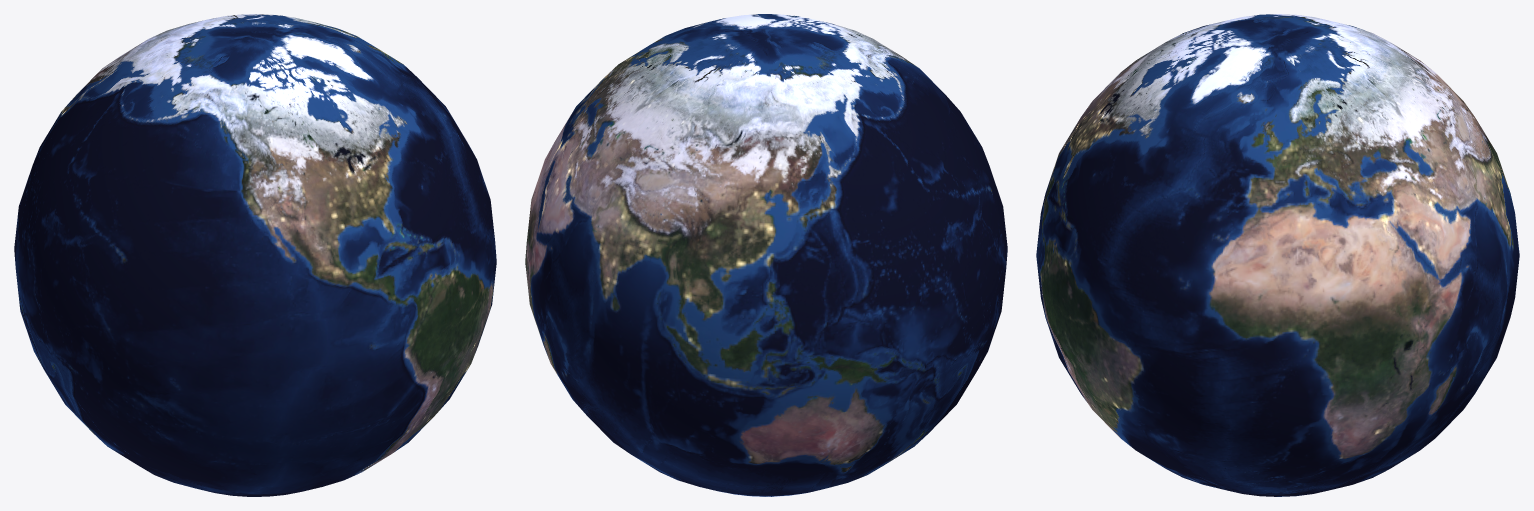
Rendered from no_cloudsv2.glb.
3 renders of one model, left to right at view 1: azimuth 30°, elevation 25°; view 2: azimuth 150°, elevation 25°; view 3: azimuth 270°, elevation 25°, orthographic.
Parts seen in each view (by area): view 1: Earth_land; view 2: Earth_land; view 3: Earth_land.
Part boxes in pixels (bbox=[...]): Earth_land: bbox=[14, 14, 496, 496]; Earth_land: bbox=[525, 14, 1007, 496]; Earth_land: bbox=[1036, 14, 1519, 496].
Size of the model in its own units: 20 by 20 by 20.
Materials: 2 (1 with a texture image).
